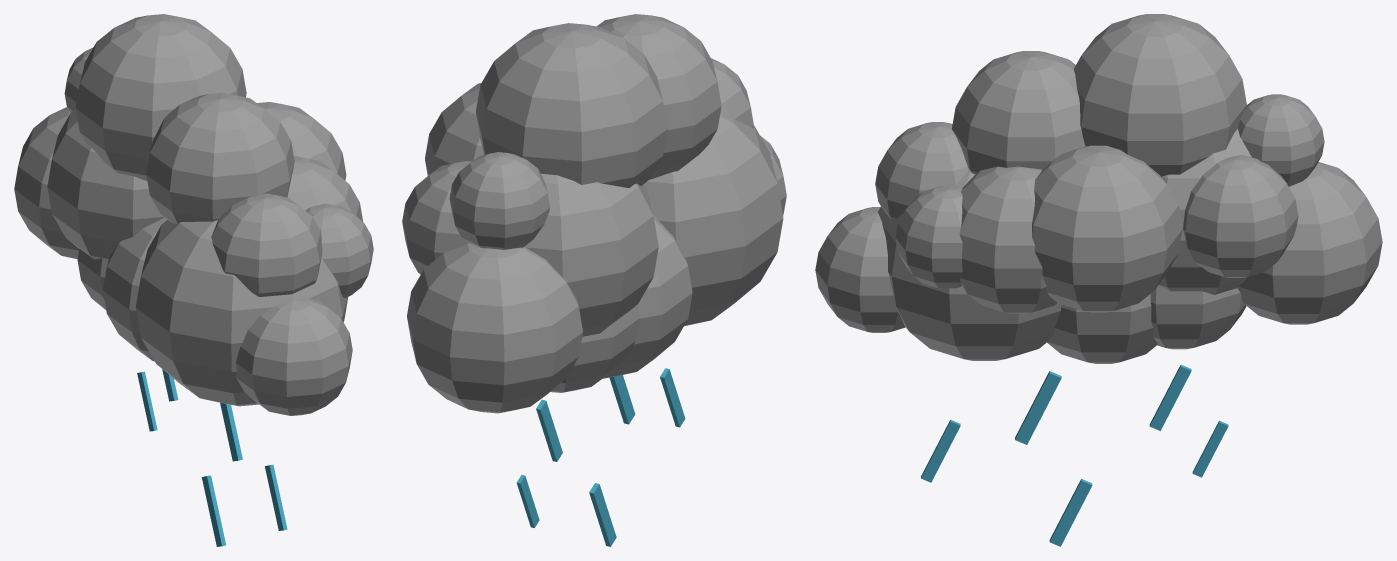
File: rainyCloud.glb
3 views of the same model, side by side, from view 1: azimuth 30°, elevation 25°; view 2: azimuth 150°, elevation 25°; view 3: azimuth 270°, elevation 25° (orthographic). The views are drawn at different scales.
Visible parts, largest first — view 1: Sphere.003, Sphere.005, Sphere.002, Sphere, Sphere.007, Sphere.001, Sphere.006, Sphere.008, Sphere.011, Sphere.009, Sphere.010, Sphere.004 (+5 smaller); view 2: Sphere.005, Sphere.006, Sphere.003, Sphere.007, Sphere.002, Sphere.013, Sphere.008, Sphere.012, Sphere.004, Sphere.009, Sphere.001, Plane.001 (+5 smaller); view 3: Sphere.005, Sphere.009, Sphere.006, Sphere.002, Sphere.012, Sphere.010, Sphere.003, Sphere, Sphere.001, Sphere.011, Sphere.013, Sphere.008 (+7 smaller).
Part boxes in pixels (box(x1,y1,x2,y2)): Sphere.003: box(135, 220, 348, 406); Sphere.005: box(75, 14, 246, 180); Sphere.002: box(146, 92, 294, 223); Sphere: box(236, 298, 352, 415); Sphere.007: box(47, 109, 164, 259); Sphere.001: box(211, 193, 322, 296); Sphere.006: box(14, 107, 79, 259); Sphere.008: box(103, 217, 167, 361); Sphere.011: box(305, 203, 373, 297); Sphere.009: box(257, 102, 346, 180); Sphere.010: box(287, 156, 363, 221); Sphere.004: box(77, 248, 108, 310); Sphere.005: box(476, 23, 667, 187); Sphere.006: box(407, 240, 582, 413); Sphere.003: box(644, 113, 783, 326); Sphere.007: box(524, 174, 658, 336); Sphere.002: box(596, 14, 721, 179); Sphere.013: box(449, 152, 549, 249); Sphere.008: box(602, 215, 692, 378); Sphere.012: box(402, 161, 471, 274); Sphere.004: box(550, 304, 639, 392); Sphere.009: box(425, 83, 483, 175); Sphere.001: box(711, 58, 753, 128); Plane.001: box(589, 483, 616, 546); Sphere.005: box(1073, 14, 1246, 176); Sphere.009: box(1032, 145, 1182, 312); Sphere.006: box(1237, 162, 1382, 324); Sphere.002: box(952, 51, 1085, 174); Sphere.012: box(1183, 155, 1298, 277); Sphere.010: box(959, 166, 1057, 313); Sphere.003: box(878, 169, 1061, 360); Sphere: box(815, 207, 905, 332); Sphere.001: box(875, 122, 968, 220); Sphere.011: box(895, 186, 962, 288); Sphere.013: box(1238, 94, 1324, 186); Sphere.008: box(1047, 294, 1157, 363).
Size of the model in its own units: 4.14 by 8.31 by 8.24.
